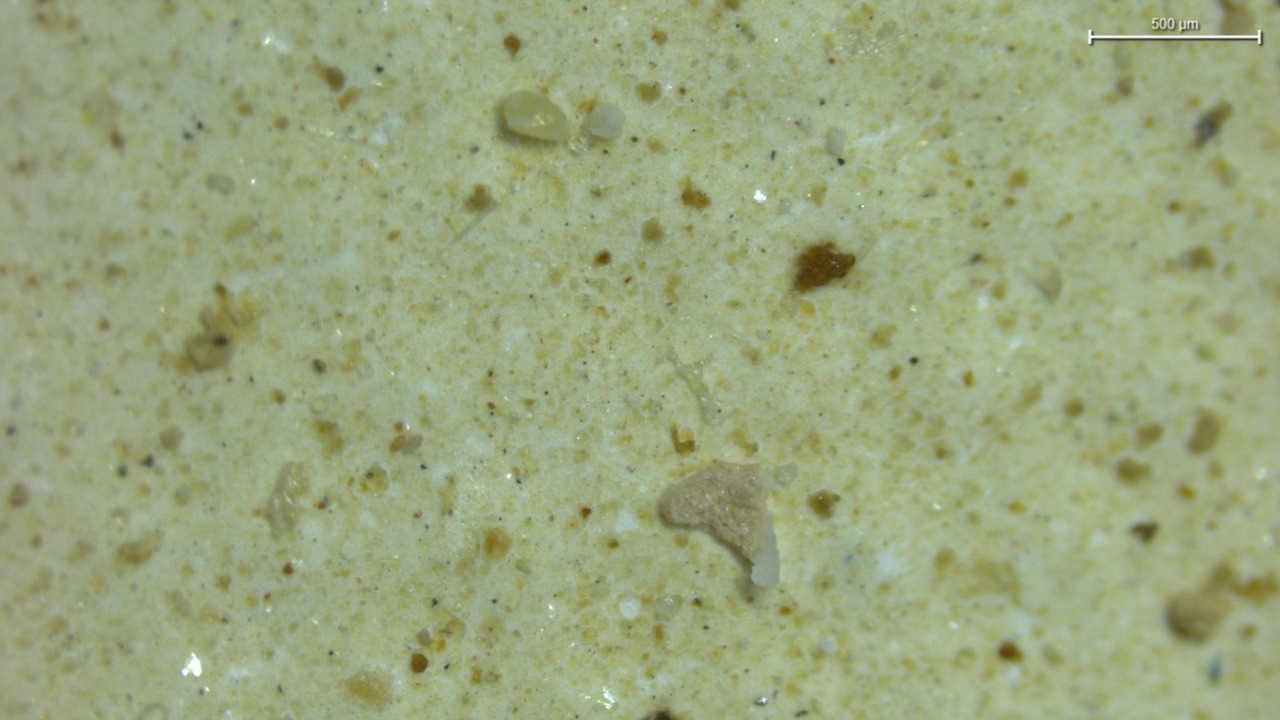microplastic_fragment: (658, 461, 779, 587), (497, 91, 571, 142), (582, 102, 625, 139), (826, 129, 845, 165)
